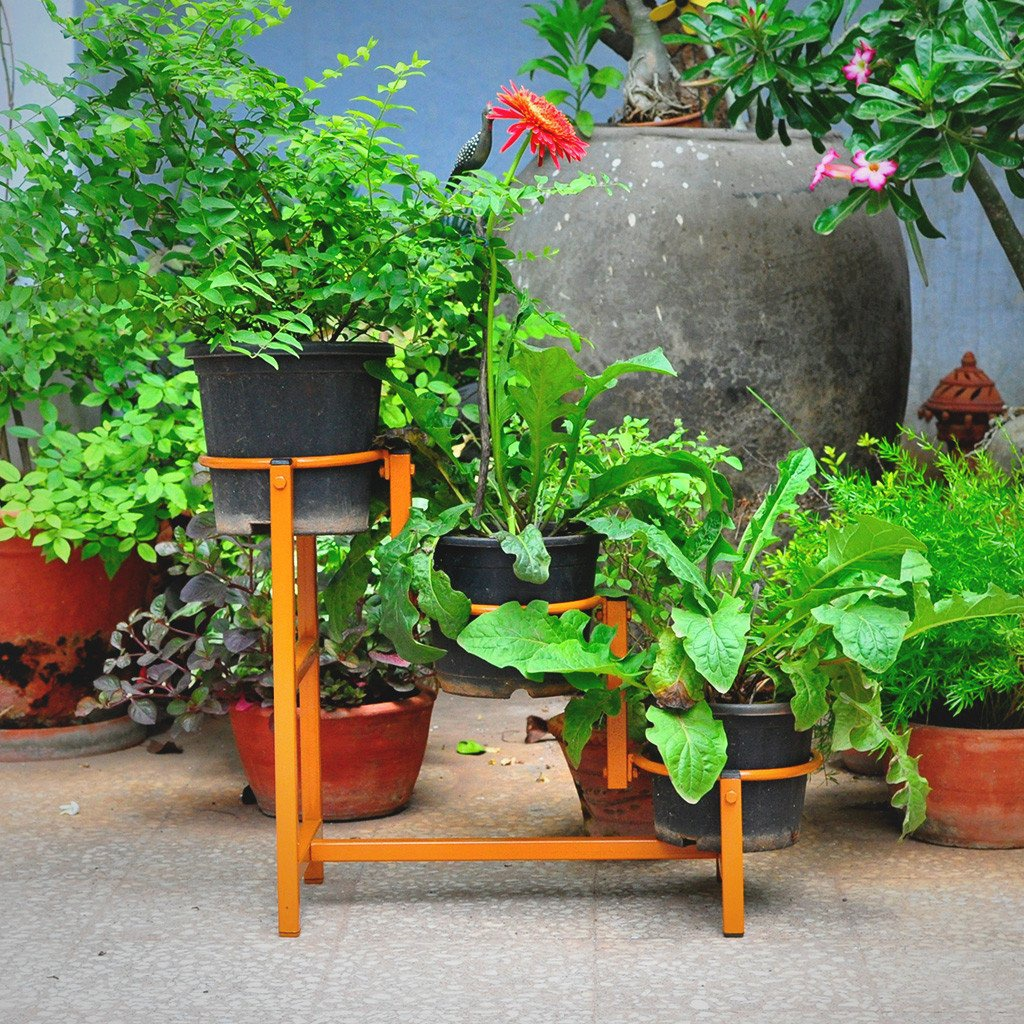flowerpot: (190, 337, 386, 528), (217, 667, 436, 817), (419, 535, 600, 691), (642, 686, 805, 847), (888, 708, 1024, 846)
